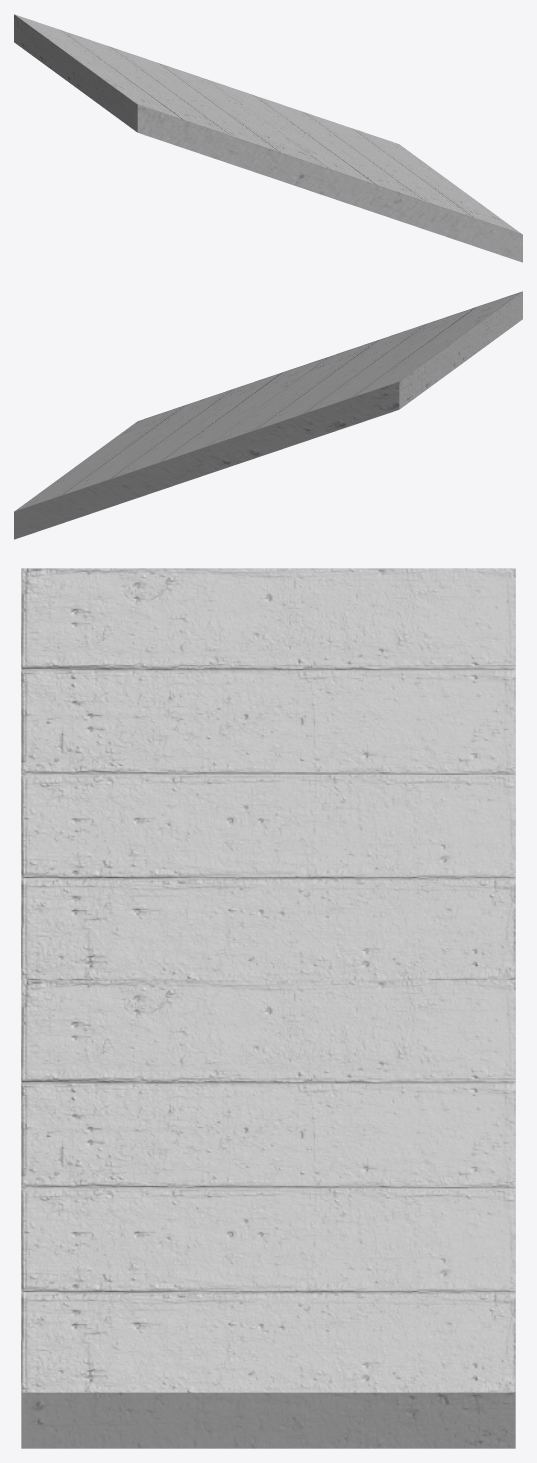
The model's file is Rampa.fbx.
3 views of the same model, one above another, from view 1: azimuth 30°, elevation 25°; view 2: azimuth 150°, elevation 25°; view 3: azimuth 270°, elevation 25° (orthographic). The views are drawn at different scales.
Parts seen in each view (by area): view 1: Cube.015; view 2: Cube.015; view 3: Cube.015.
Boxes of the visible parts, x1=… form: Cube.015: x1=14, y1=14, x2=522, y2=262; Cube.015: x1=14, y1=291, x2=522, y2=539; Cube.015: x1=21, y1=568, x2=515, y2=1448.
Bounding box in the file's own units: 7.2 × 4.5 × 4.
